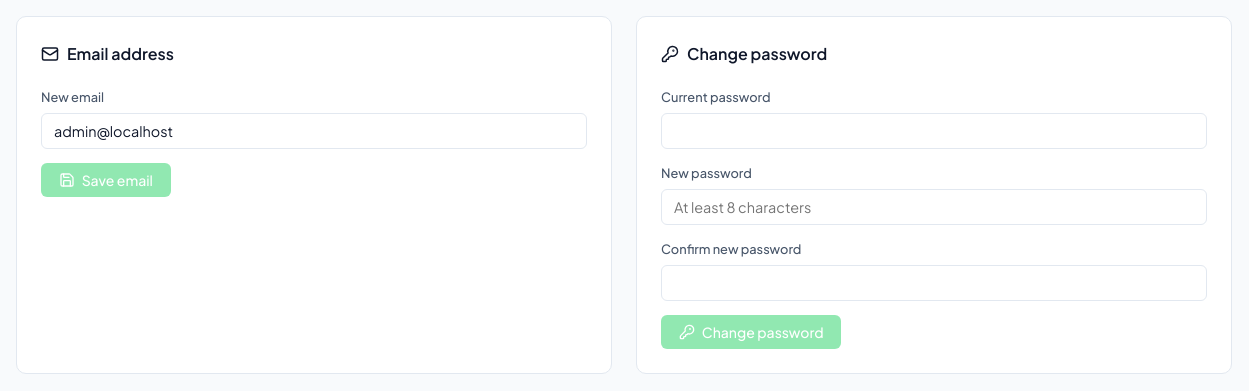
Test: Profile page › with JWT › email update › shows error on updateMe failure
Step 1. Type "taken@example.com" into the field labelled "New email" → (314, 131), box [41,113,587,149]
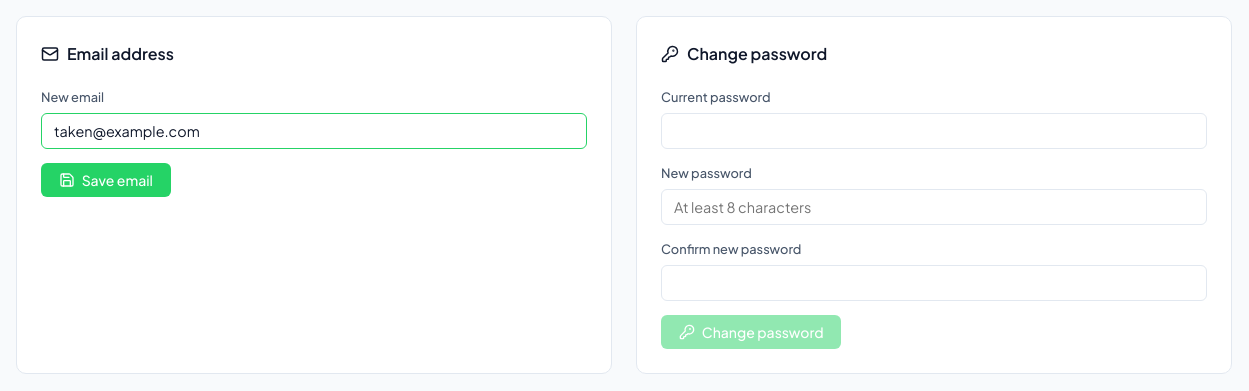
Step 2. Click the button "Save email" → (106, 180), box [41,163,170,197]
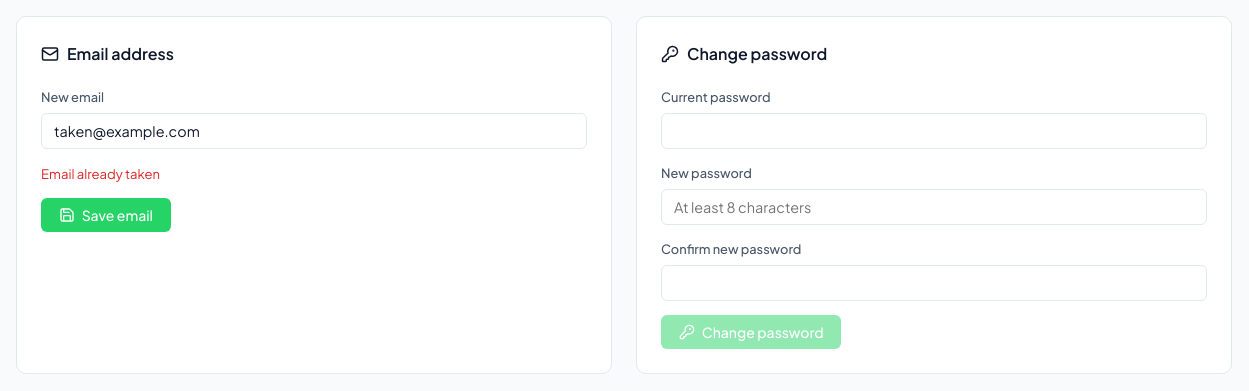
Result: the text "Email already taken" is shown at [41,165,160,182]
